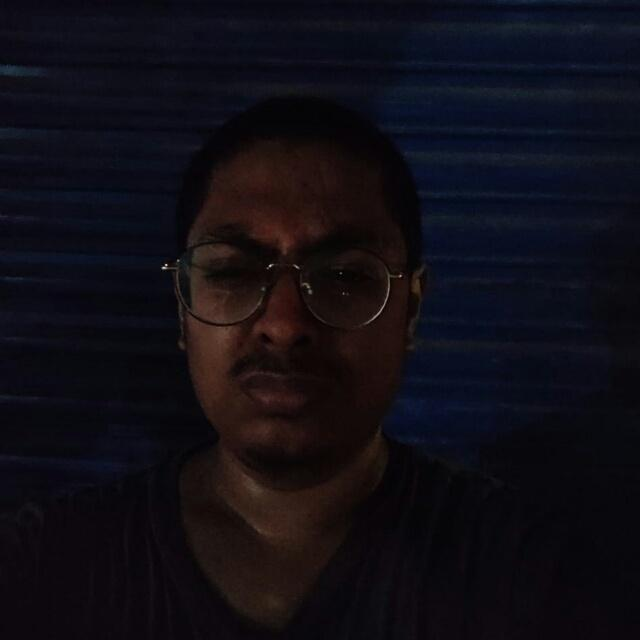Disgust: (127, 104, 470, 505)
